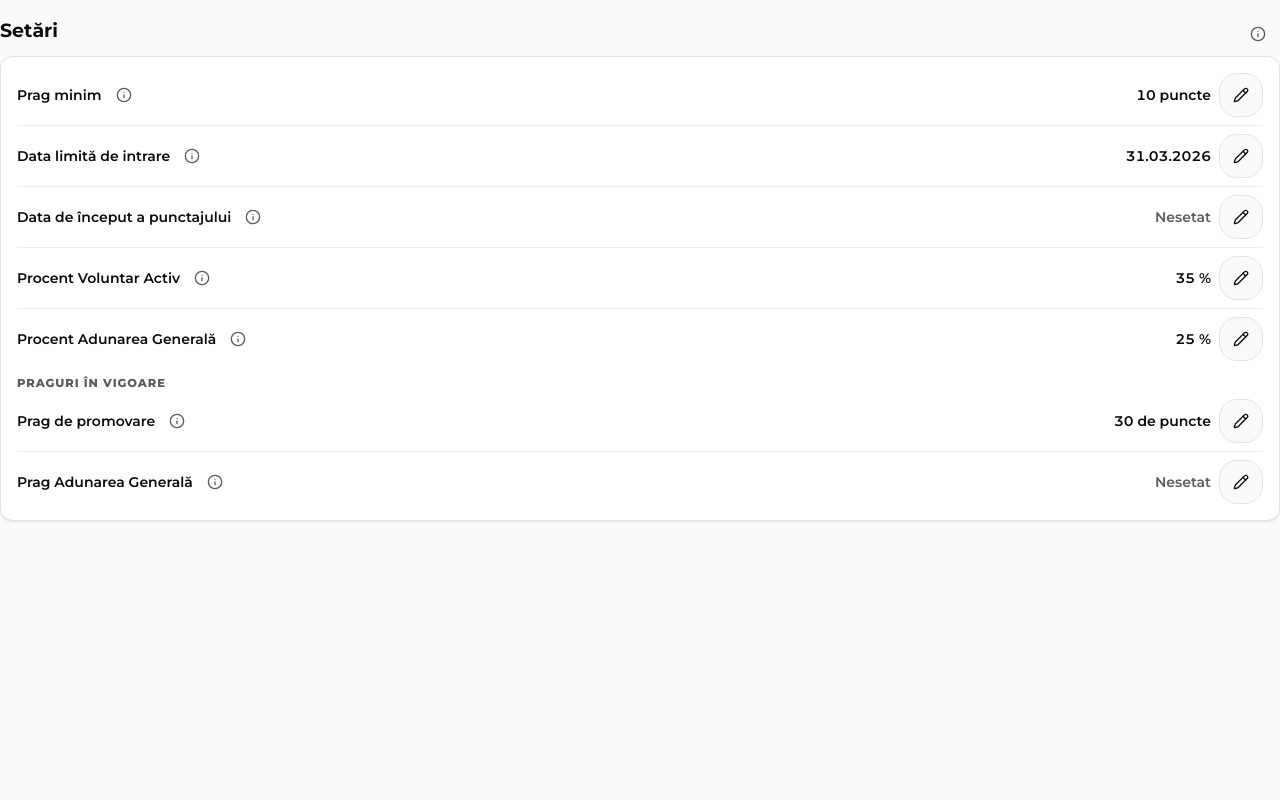
Test case: names each editor’s field for the setting it changes
The image size is (1280, 800).
Expected: the heading "Prag minim" is shown, [17,85,102,105]
Click the button named "Editează Prag minim": point(1241, 95) [1219,73,1263,117]
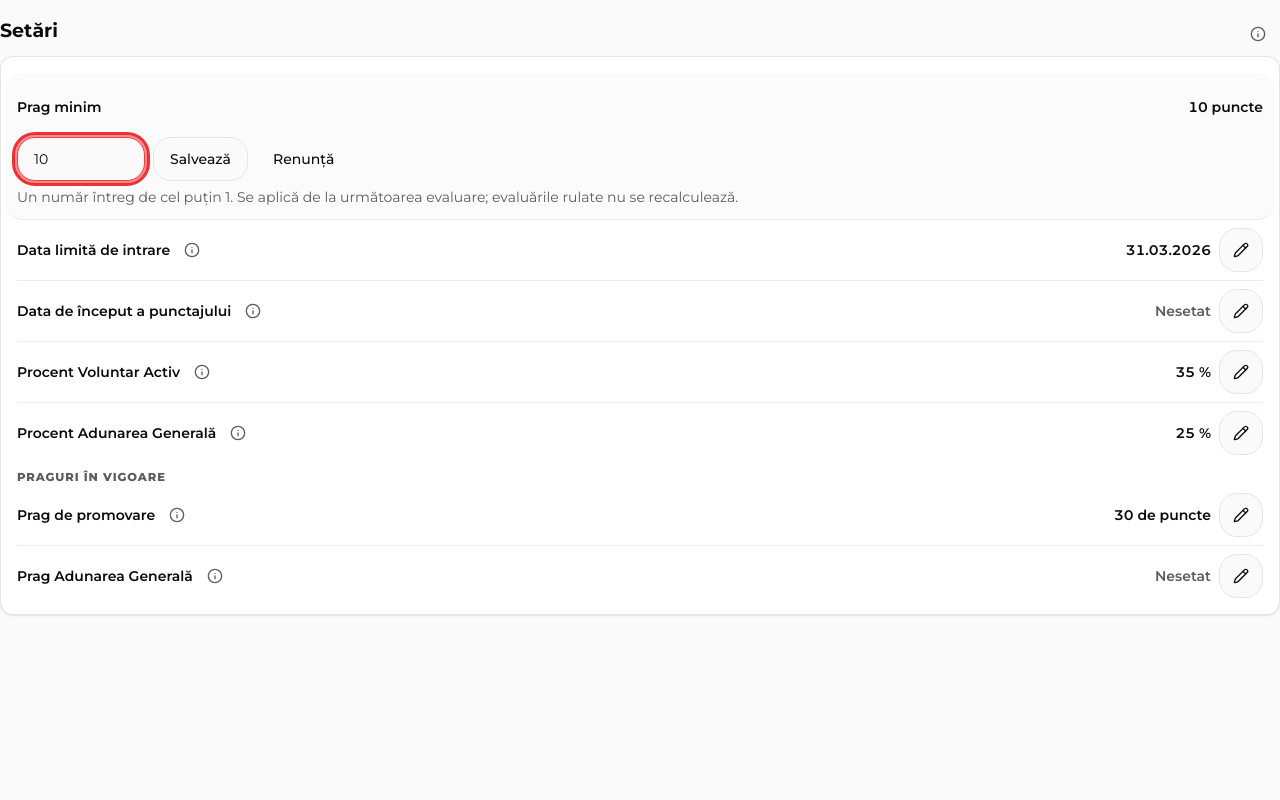
Expected: the field named "Valoare nouă pentru Prag minim" is shown, [17,137,145,181]
Click the button named "Editează Data limită de intrare": point(1241, 250) [1219,228,1263,272]
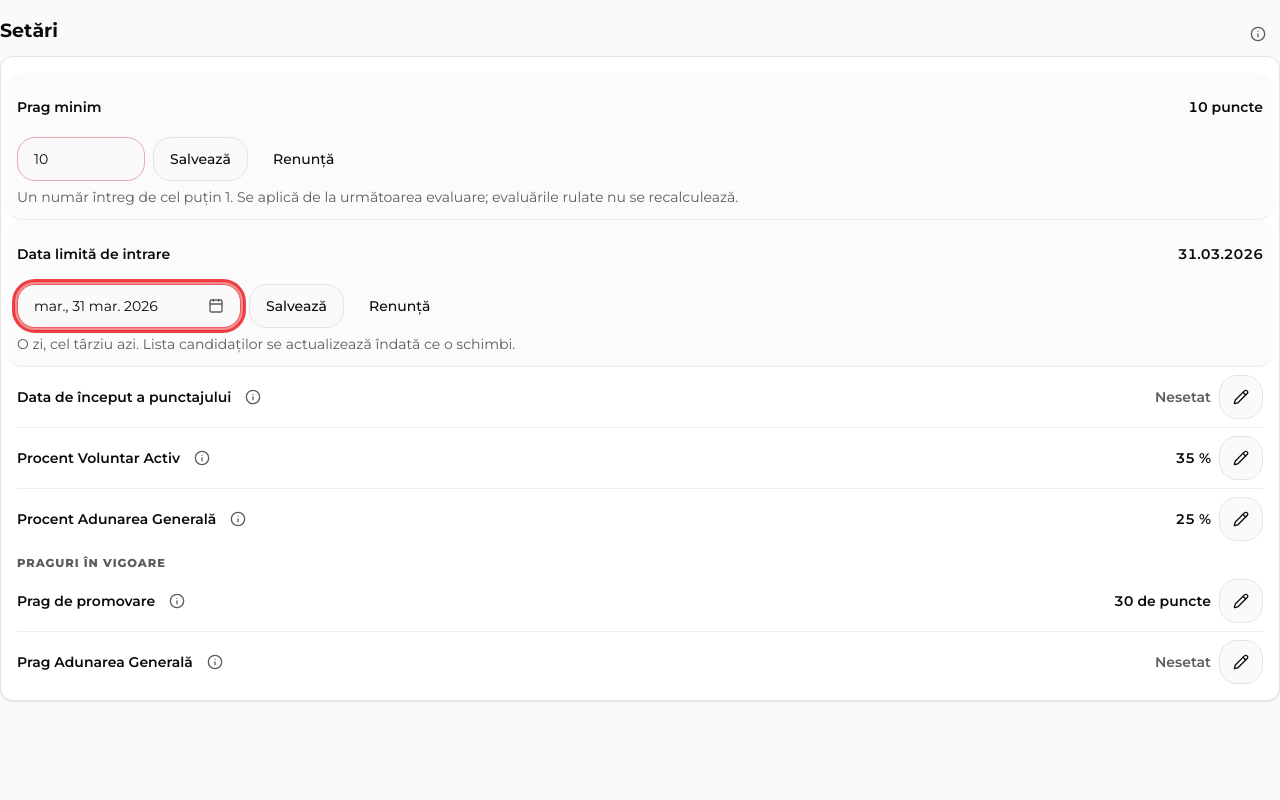
Expected: the button with aria-label "Valoare nouă pentru Data limită de intrare" is shown, [17,284,241,328]
